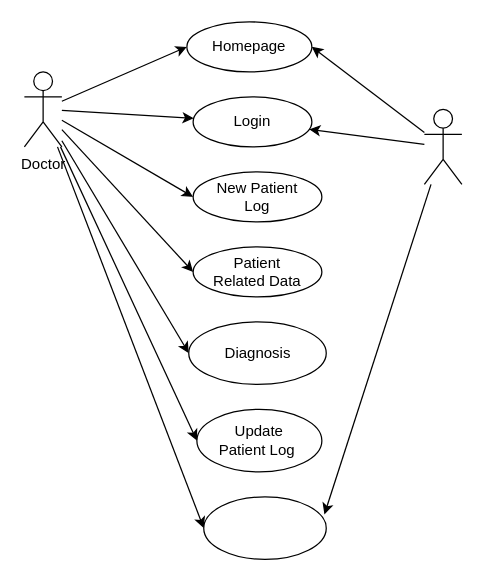
The diagram is 486 pixels wide and 581 high, and some of its shapes have lost their labels. Here are the shapes that lost their labels. From the top down, the centre of each, then its label:
At point 442,146: "Admin".
At point 264,527: "Logout".
